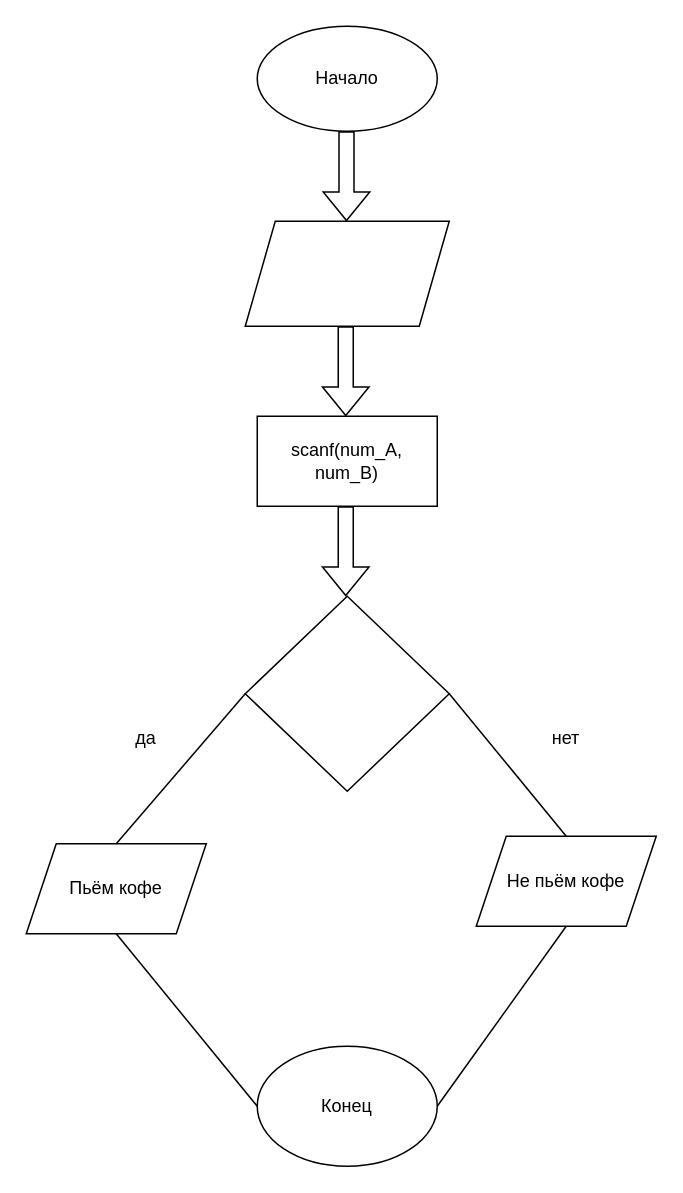
Some shapes in this 683 by 1193 pixel diagram are drawn without their labels. Each missing label, with the centre of its shape:
num_A, num_B, condition: [346,273]
одно из чисел чётное?: [346,693]
